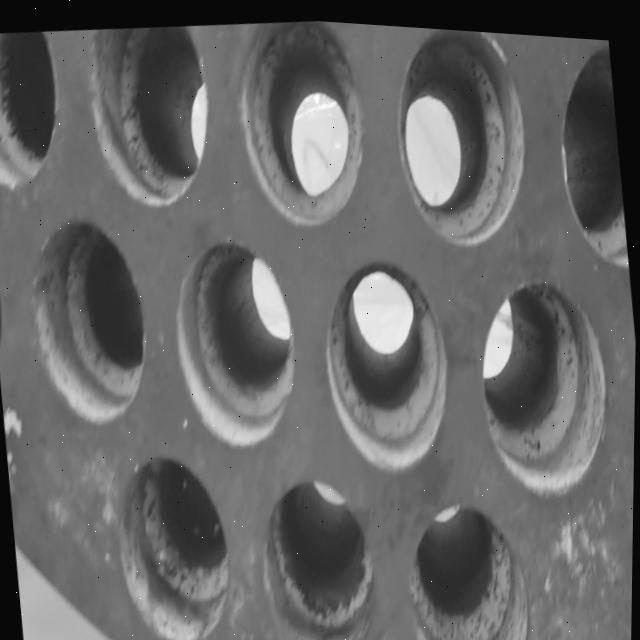Hole: (383, 20, 537, 248), (472, 261, 619, 495), (313, 243, 459, 474), (227, 12, 374, 231), (165, 225, 304, 451), (21, 204, 156, 431), (80, 15, 217, 212), (110, 439, 241, 640), (252, 462, 386, 640), (399, 485, 535, 640), (547, 29, 632, 264), (0, 26, 67, 193)
